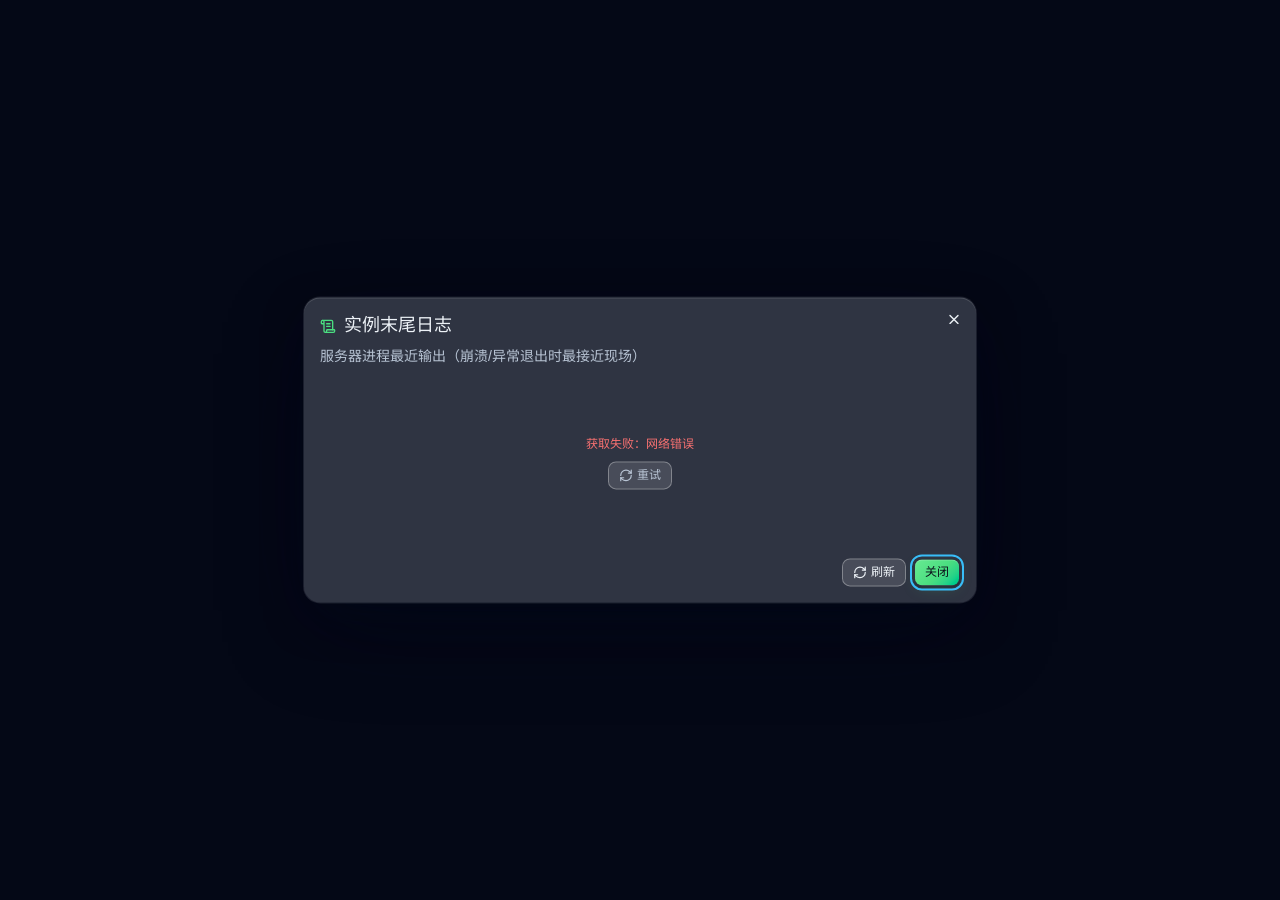
Scenario: LastOutputDialog › 拉取失败显示错误 + 重试可恢复
Expected: the text "获取失败：网络错误" is shown, [586,436,694,454]
Click the button "重试".
click(640, 476)  # box [608,462,672,490]
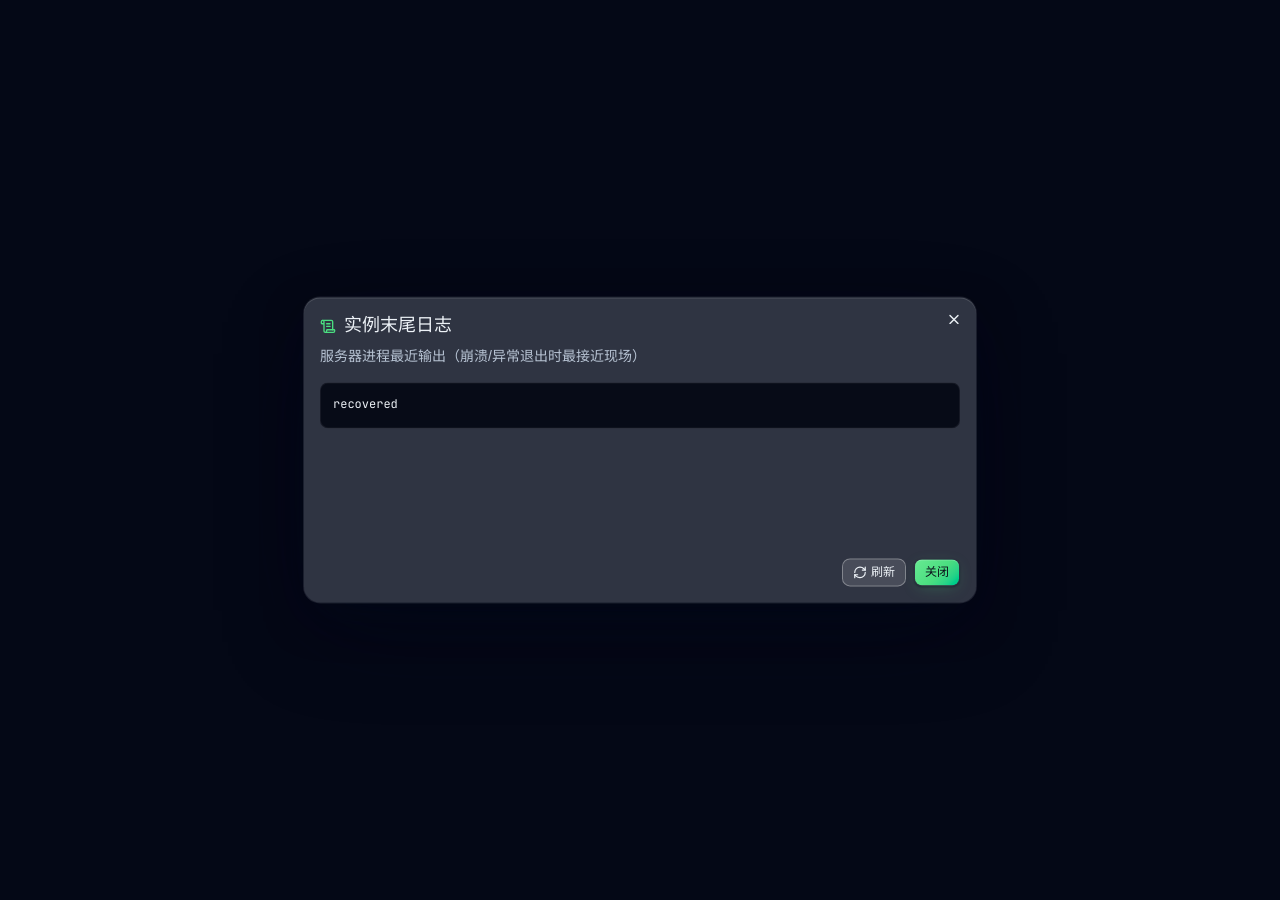
Result: the text with test id "last-output-content" reads "recovered" at [333,397,398,413]
